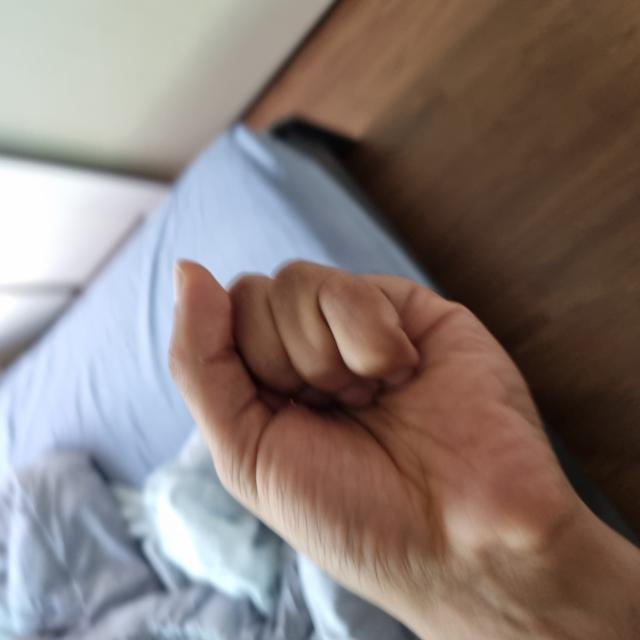Rock: (5, 170, 379, 556)
